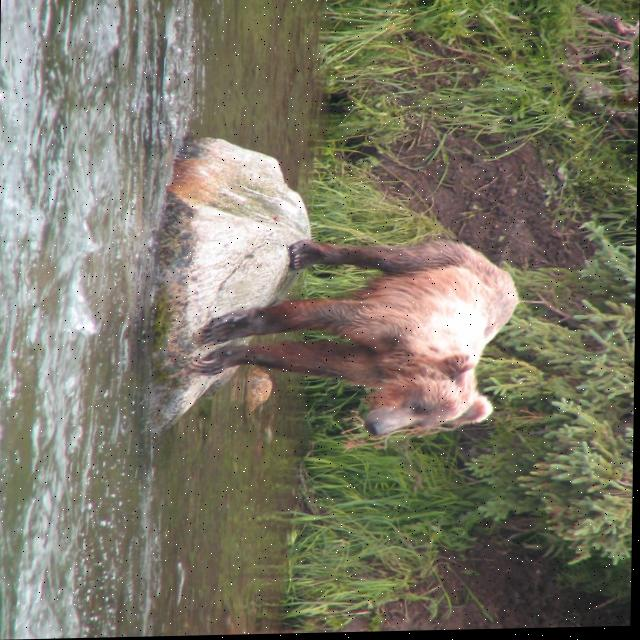bear face: (189, 231, 523, 443)
